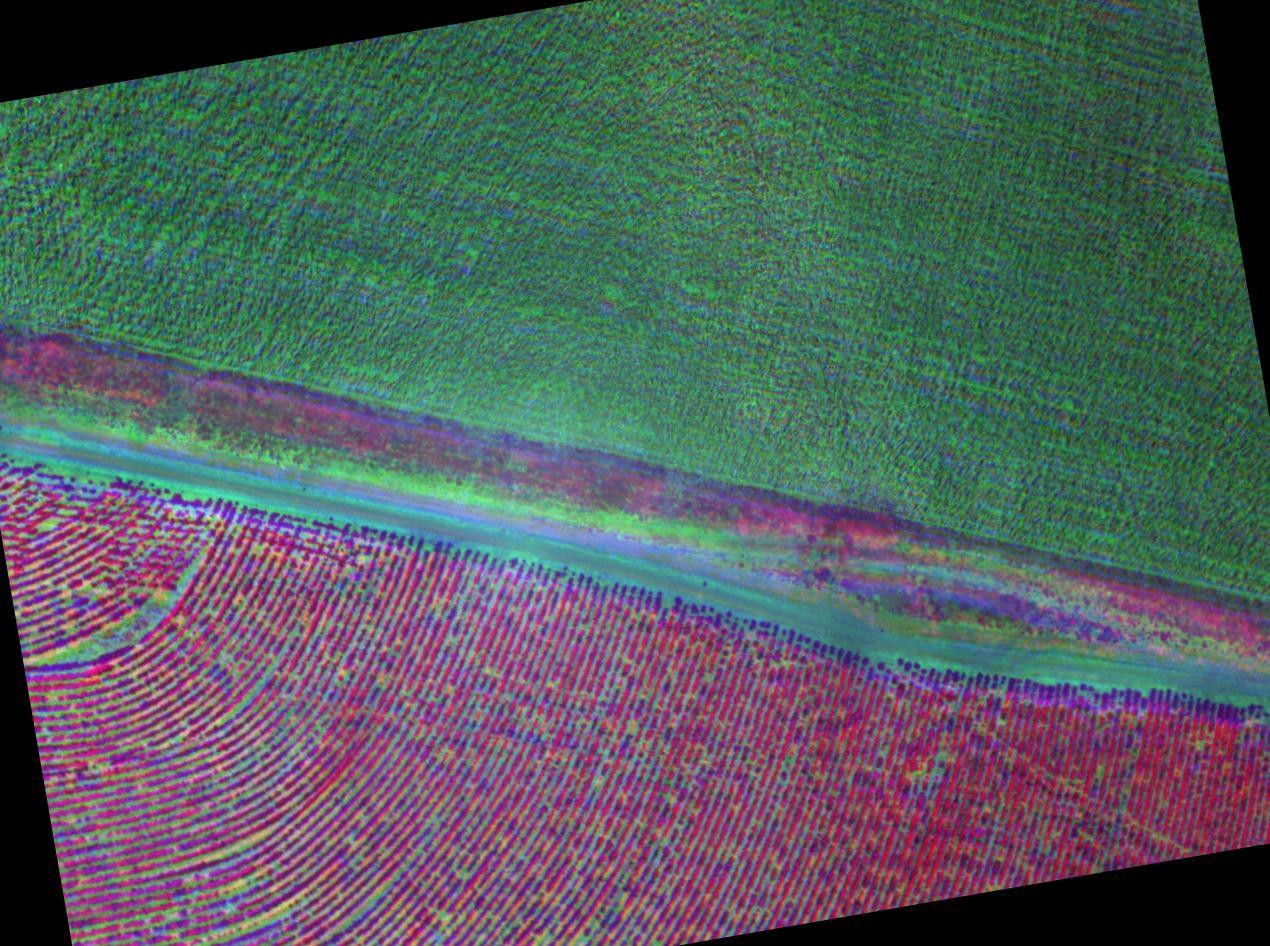dc: (18, 543, 226, 665), (348, 843, 444, 946), (178, 850, 274, 946), (526, 875, 639, 946), (238, 670, 309, 749)
